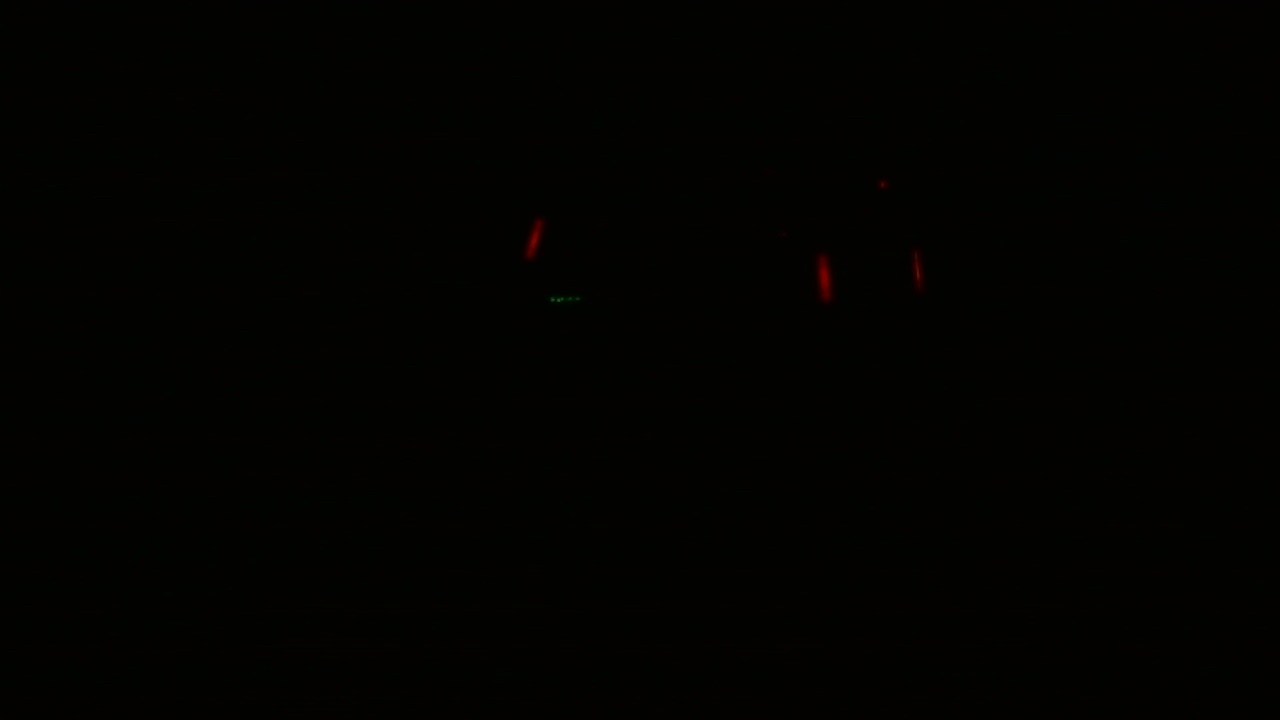pair1: (810, 250, 925, 297)
